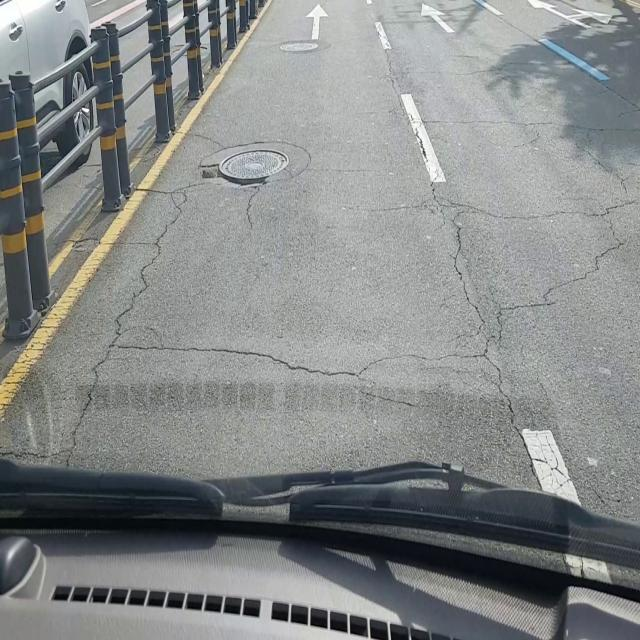Pothole: (198, 146, 291, 190)
